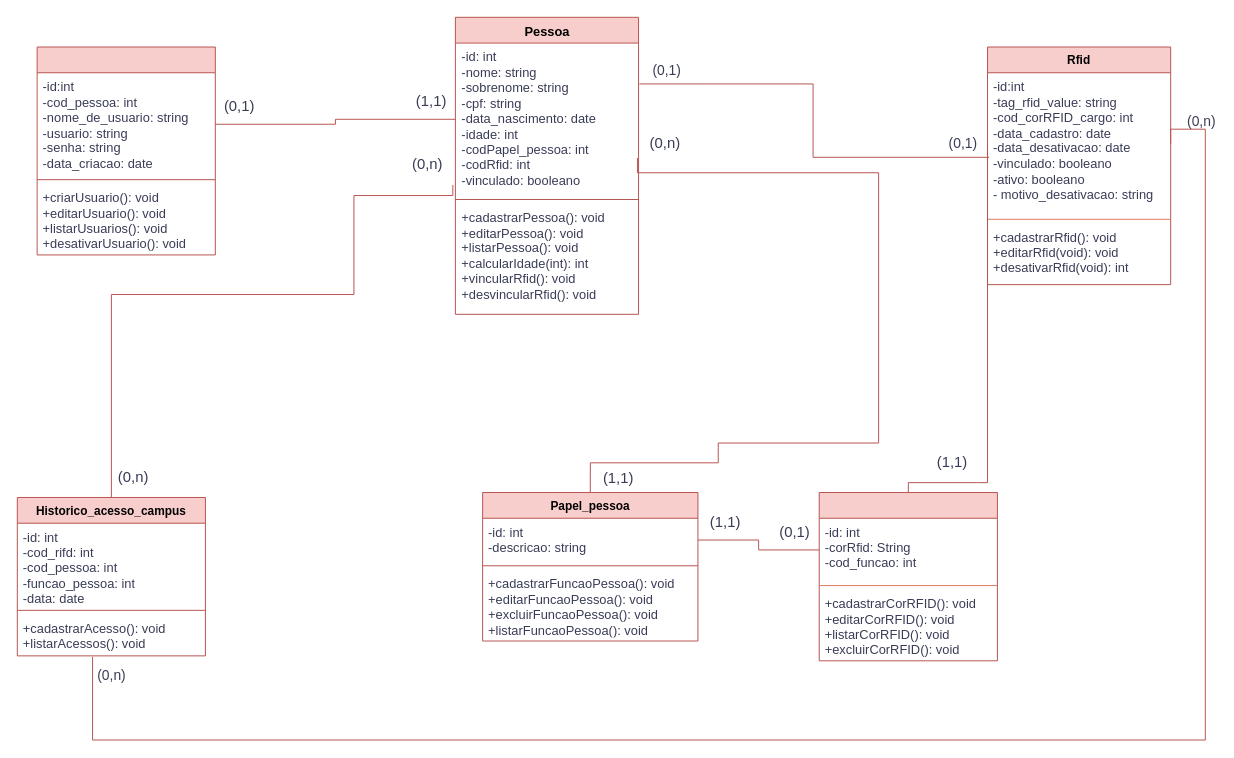
Image size: 1234x758. Some labels were removed from this diagram. The shapes that lost their labels are listed below. From the top down, each one's box as (x1, y1, x2, y2) in pixels, then its label:
(36, 46, 215, 255): Usuario_sistema
(818, 492, 997, 661): CorRFID_Funcao
